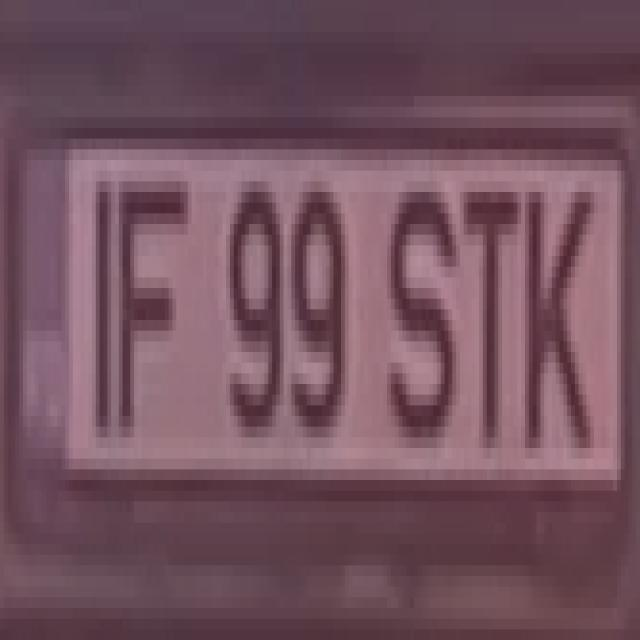Autre: (18, 141, 623, 478)
